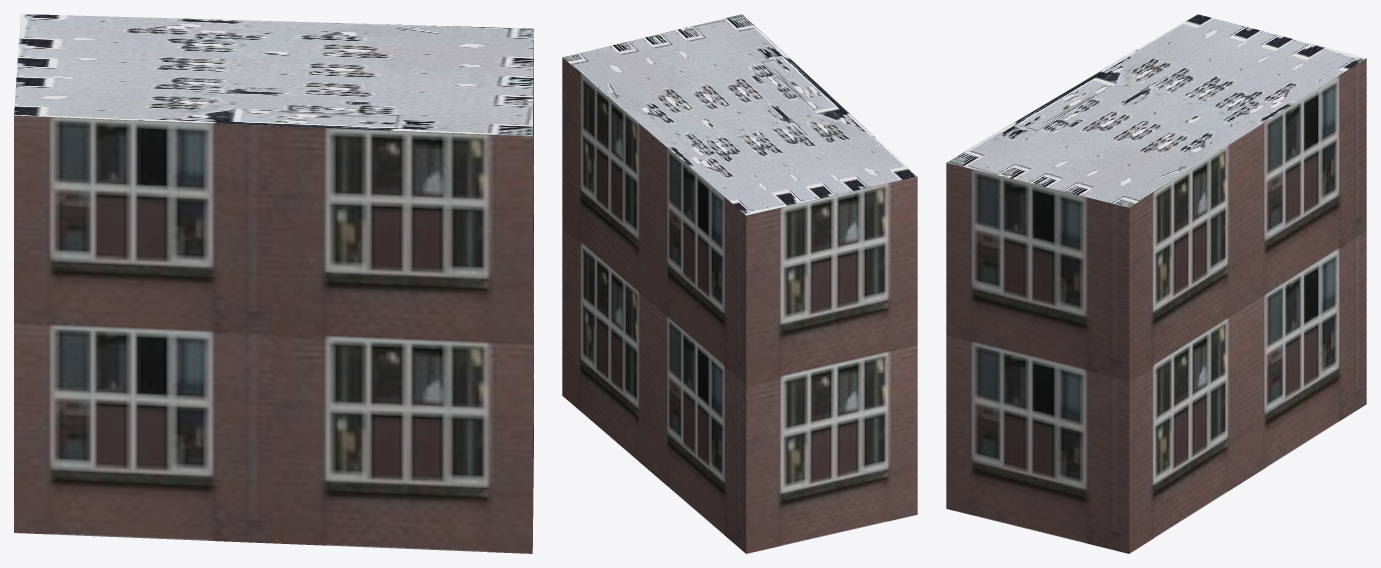
File: ResTex__2431.fbx
3 renders of one model, left to right at view 1: azimuth 30°, elevation 25°; view 2: azimuth 150°, elevation 25°; view 3: azimuth 270°, elevation 25°, orthographic. The views are drawn at different scales.
Parts seen in each view (by area): view 1: CityEngineMaterial_12_m, CityEngineMaterial_8_m; view 2: CityEngineMaterial_12_m, CityEngineMaterial_8_m; view 3: CityEngineMaterial_12_m, CityEngineMaterial_8_m.
Part boxes in pixels (x1,y1,x2,y2): CityEngineMaterial_12_m: (14,41,533,553); CityEngineMaterial_8_m: (14,14,533,136); CityEngineMaterial_12_m: (562,57,917,553); CityEngineMaterial_8_m: (563,14,917,215); CityEngineMaterial_12_m: (946,58,1366,553); CityEngineMaterial_8_m: (946,14,1366,207).
Size of the model in its own units: 7.21 by 6 by 6.61.
2 materials, 2 textured.
